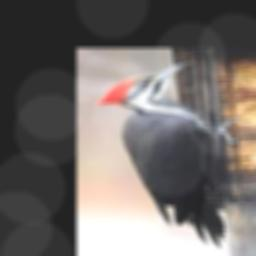Woodpecker: (95, 61, 239, 247)
